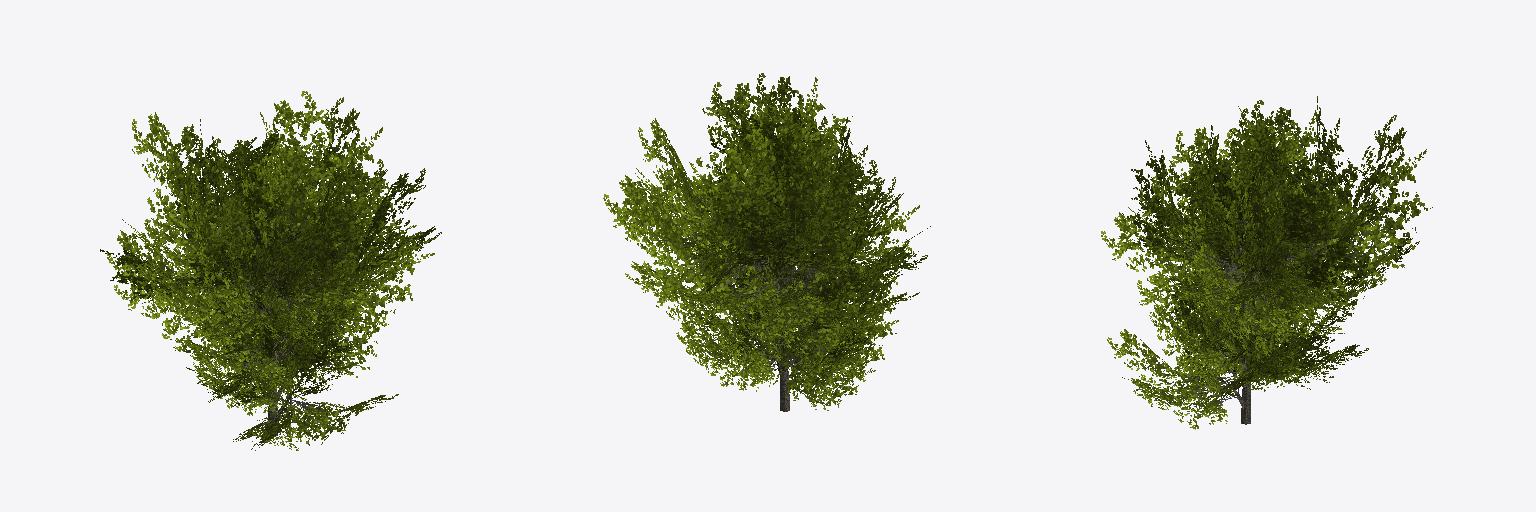
The picture shows the model from 3 angles: view 1: azimuth 30°, elevation 25°; view 2: azimuth 150°, elevation 25°; view 3: azimuth 270°, elevation 25°; orthographic projection.
Visible parts, largest first — view 1: Default; view 2: Default; view 3: Default.
Part boxes in pixels (bbox=[...]): Default: bbox=[100, 91, 441, 450]; Default: bbox=[603, 73, 930, 411]; Default: bbox=[1101, 96, 1432, 429].
Bounding box in the file's own units: 8.52 × 7.44 × 8.38.
2 materials, 2 textured.